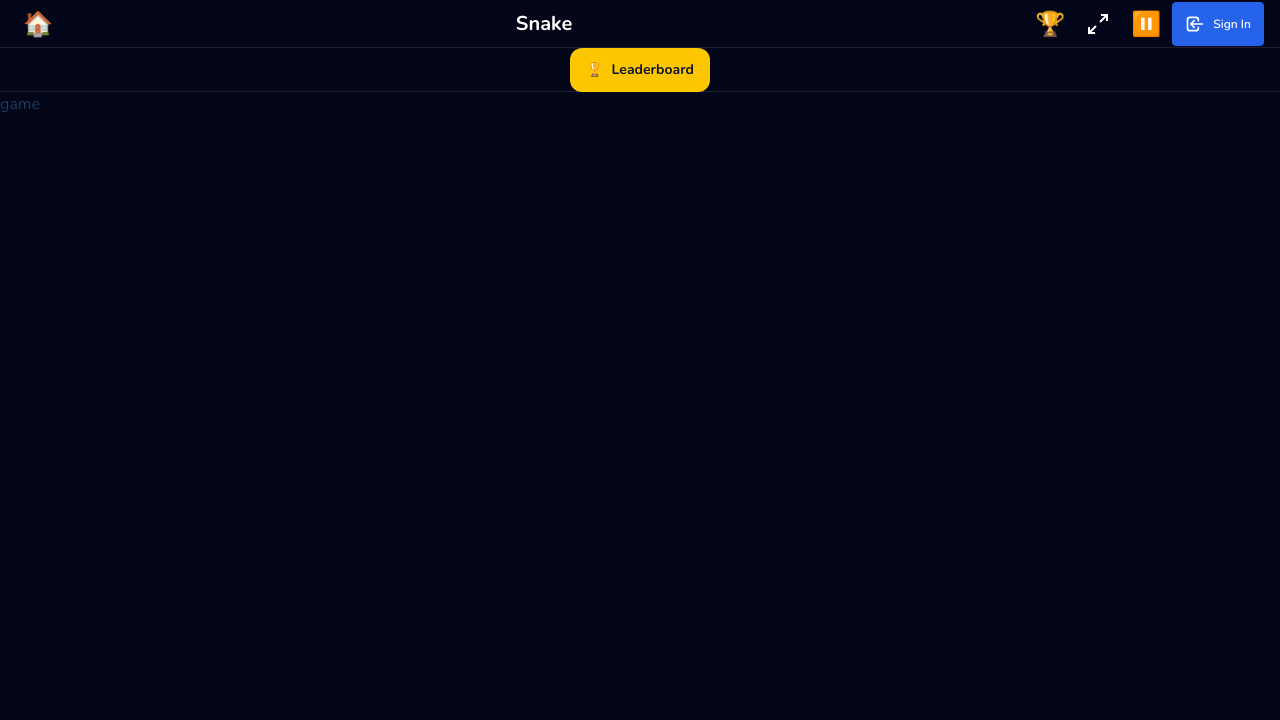
AchievementCelebrations at a break › is a card inside the pause menu, part of it, not a fixed layer over it
This screenshot has width=1280, height=720.
Step 1. Click the button named "Pause game" → (1146, 24), box [1124, 2, 1168, 46]
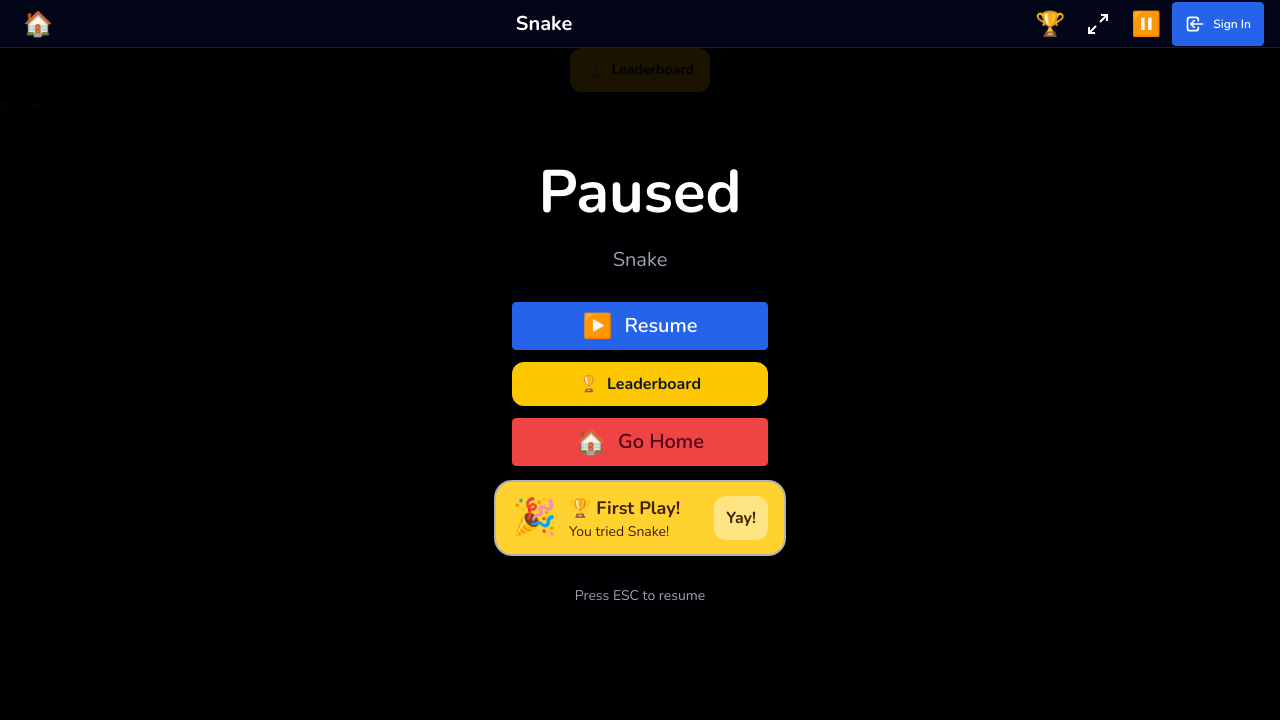
Result: the text "🏆 First Play!" is shown at [569, 496, 680, 520]
